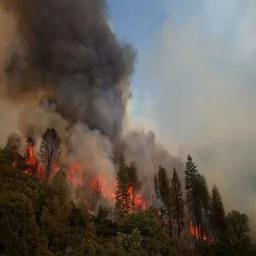Heavy smoke: (0, 0, 214, 228)
Large fire: (12, 134, 226, 250)
